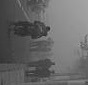person: (15, 19, 49, 37), (26, 57, 56, 69), (25, 69, 55, 79), (31, 39, 54, 47), (29, 46, 54, 52)
